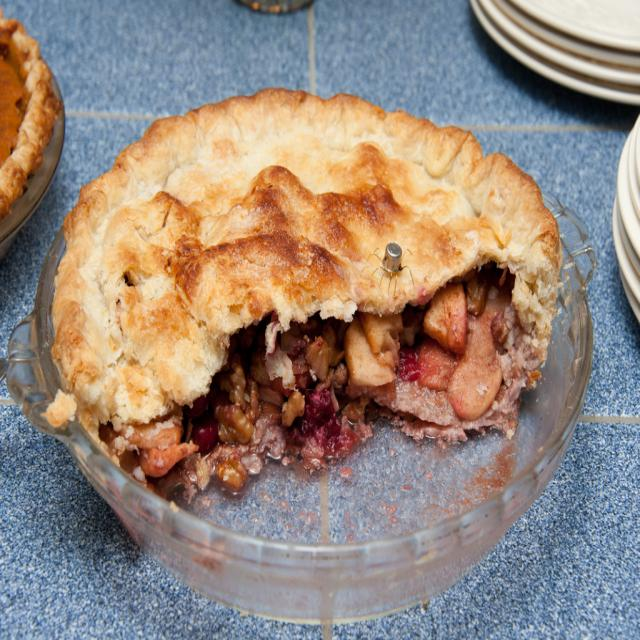non-organic waste: (42, 109, 596, 626)
